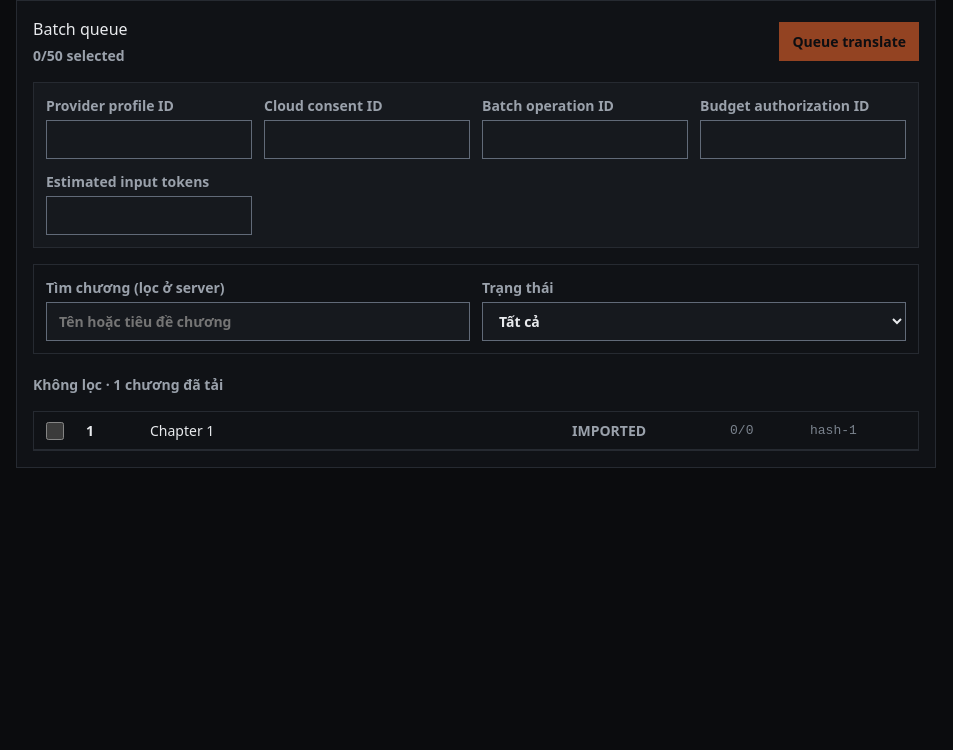
BatchQueue (U07 round 3 - theo dõi batch) › unmount không lỗi và đóng stream (không rò subscription)
The image size is (953, 750).
Expected: the text "Chapter 1" is shown, x1=150 y1=421 x2=214 y2=440
Step 1. Click the checkbox → (55, 430), box x1=46 y1=422 x2=64 y2=440
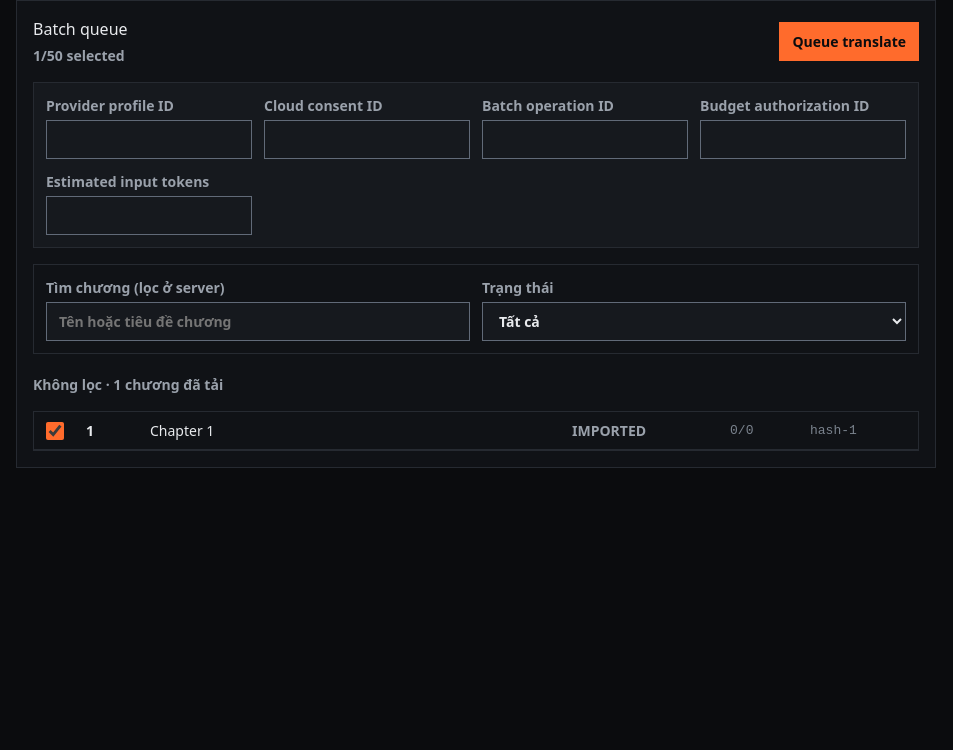
Now the text "1/50 selected" is shown, box x1=33 y1=45 x2=128 y2=66
Step 2. Type "prof-1" into the field labelled "Provider profile ID" → (149, 140), box x1=46 y1=120 x2=252 y2=159
Step 3. Type "consent-1" into the field labelled "Cloud consent ID" → (367, 140), box x1=264 y1=120 x2=470 y2=159
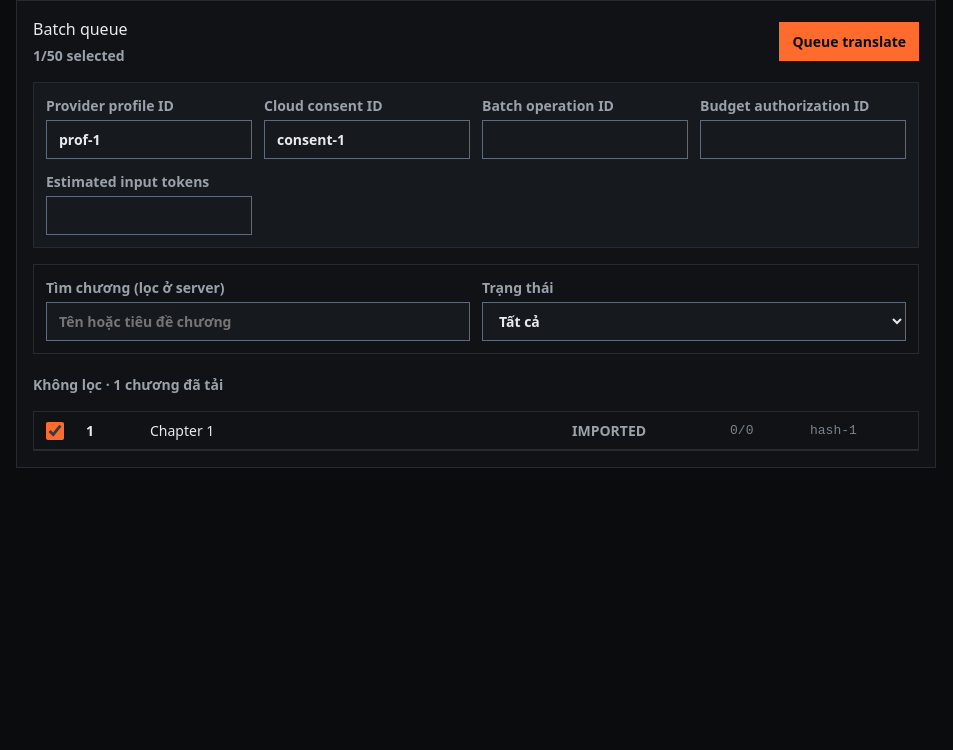
Step 4. Type "quote-1" into the field labelled "Batch operation ID" → (585, 140), box x1=482 y1=120 x2=688 y2=159
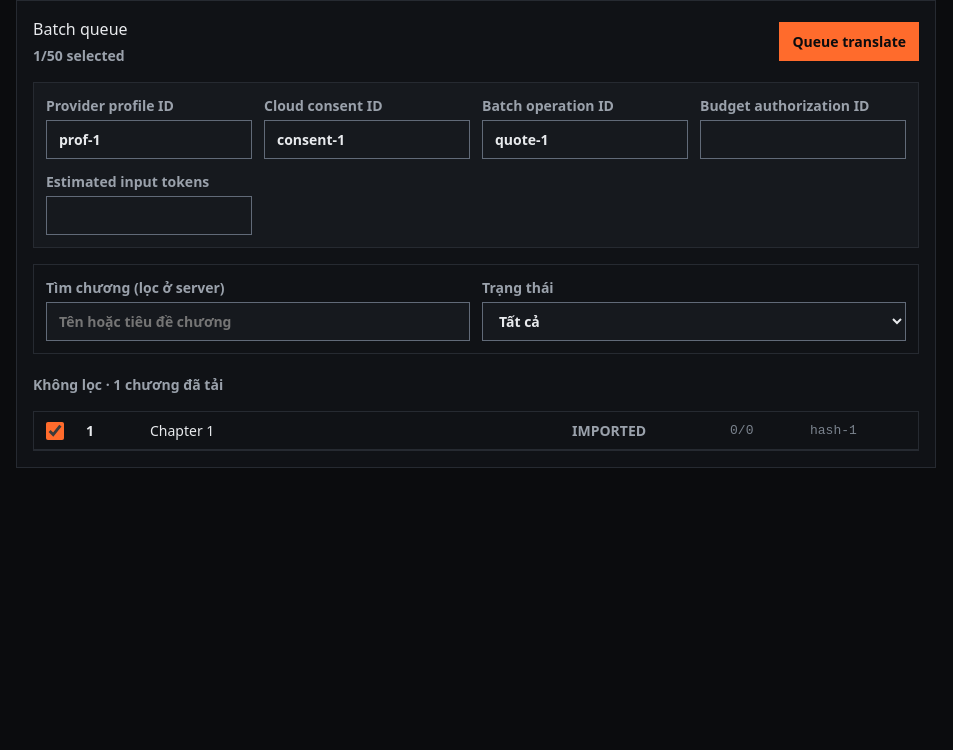
Step 5. Type "budget-1" into the field labelled "Budget authorization ID" → (803, 140), box x1=700 y1=120 x2=906 y2=159
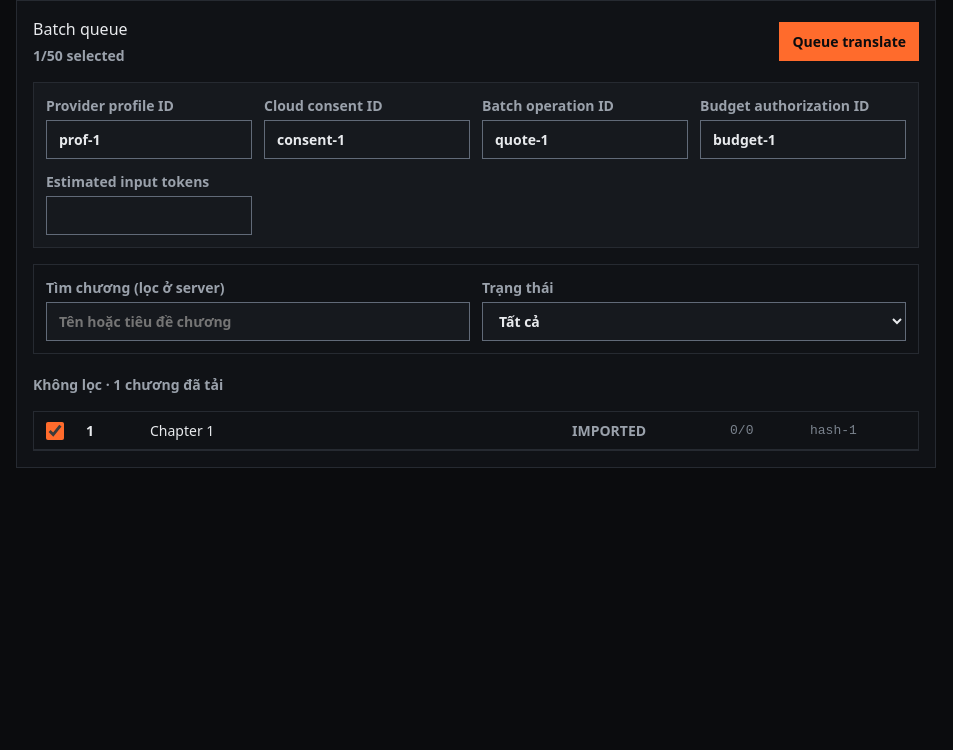
Step 6. Type "120" into the field labelled "Estimated input tokens" → (149, 216), box x1=46 y1=196 x2=252 y2=235
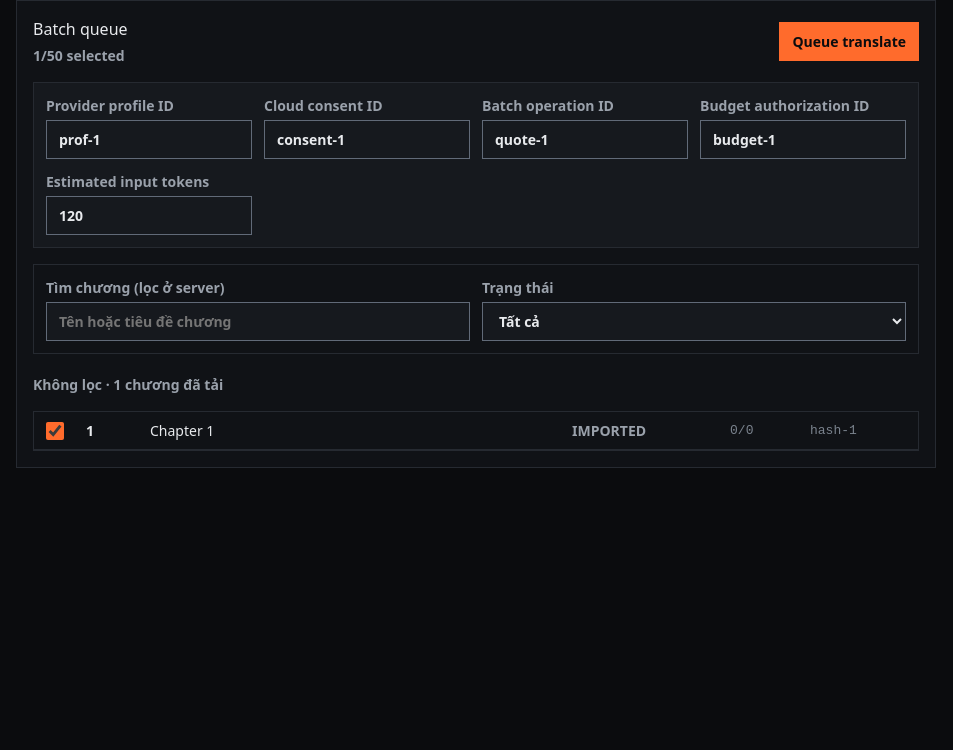
Step 7. Click the button "Queue translate" → (849, 42), box x1=779 y1=22 x2=919 y2=61
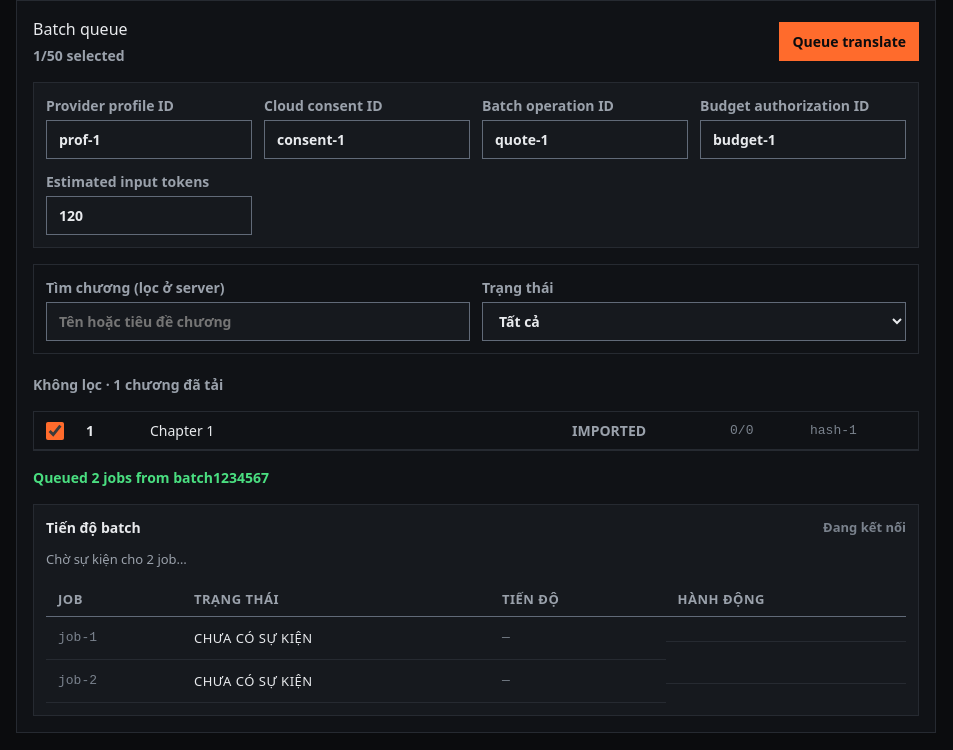
Now the text "Queued 2 jobs from batch1234567" is shown, box x1=33 y1=468 x2=269 y2=487
